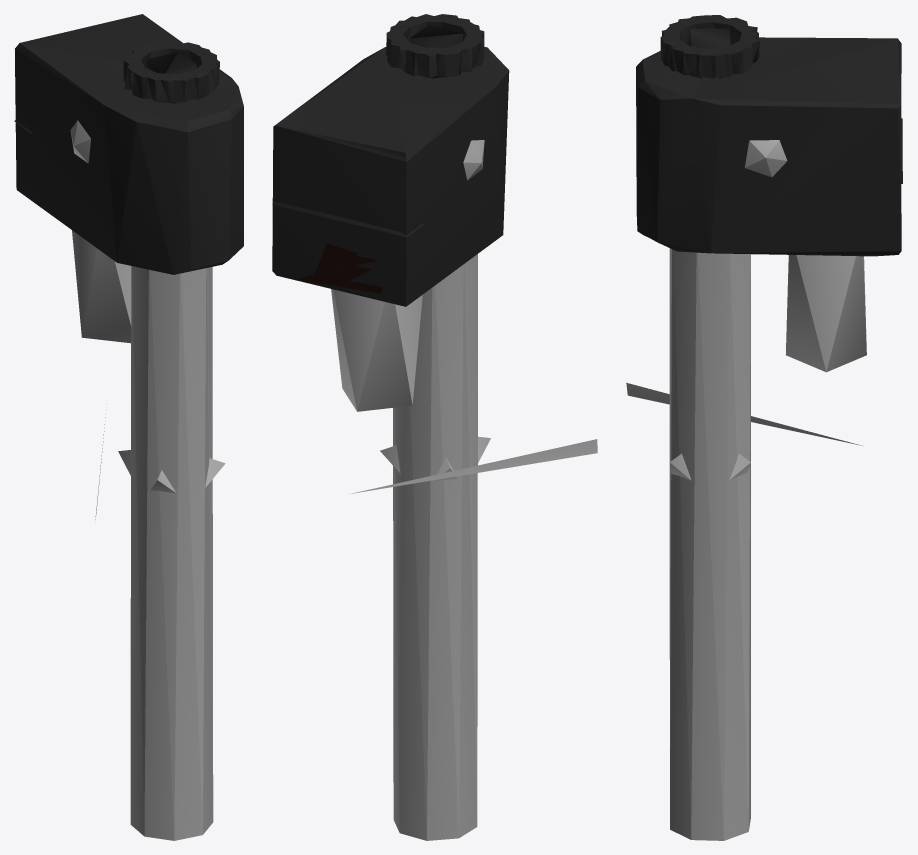
File: valut_manual.glb
3 views of the same model, side by side, from view 1: azimuth 30°, elevation 25°; view 2: azimuth 150°, elevation 25°; view 3: azimuth 270°, elevation 25° (orthographic). The views are drawn at different scales.
Visible parts, largest first — view 1: walktop.027, walktop.029; view 2: walktop.027, walktop.029, walktop.028; view 3: walktop.027, walktop.029.
Part boxes in pixels (left/top/right/bottom): walktop.027: left=70, top=120, right=225, bottom=840; walktop.029: left=14, top=14, right=243, bottom=274; walktop.027: left=331, top=140, right=597, bottom=840; walktop.029: left=272, top=14, right=509, bottom=306; walktop.028: left=295, top=243, right=382, bottom=293; walktop.027: left=626, top=140, right=866, bottom=840; walktop.029: left=636, top=15, right=902, bottom=256.
Bounding box in the file's own units: 0.3627 × 1.38 × 0.4407.
